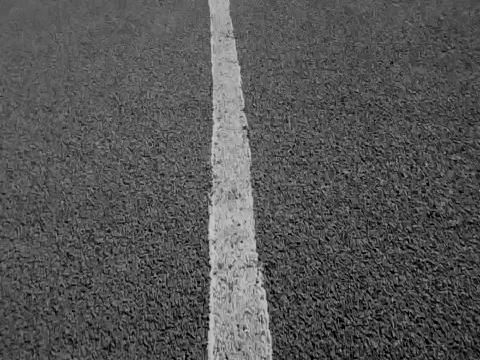Lines: (207, 0, 275, 360)
